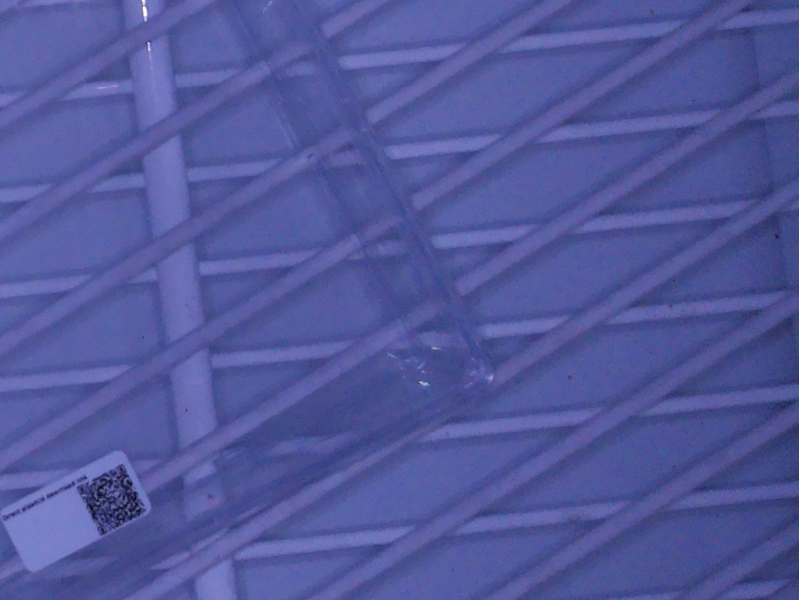plate: (1, 1, 494, 599)
